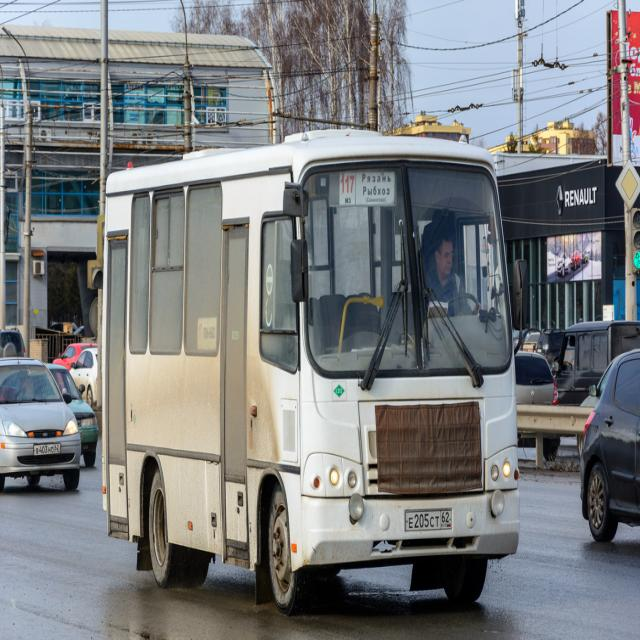number-of-bus: (340, 174, 357, 197)
